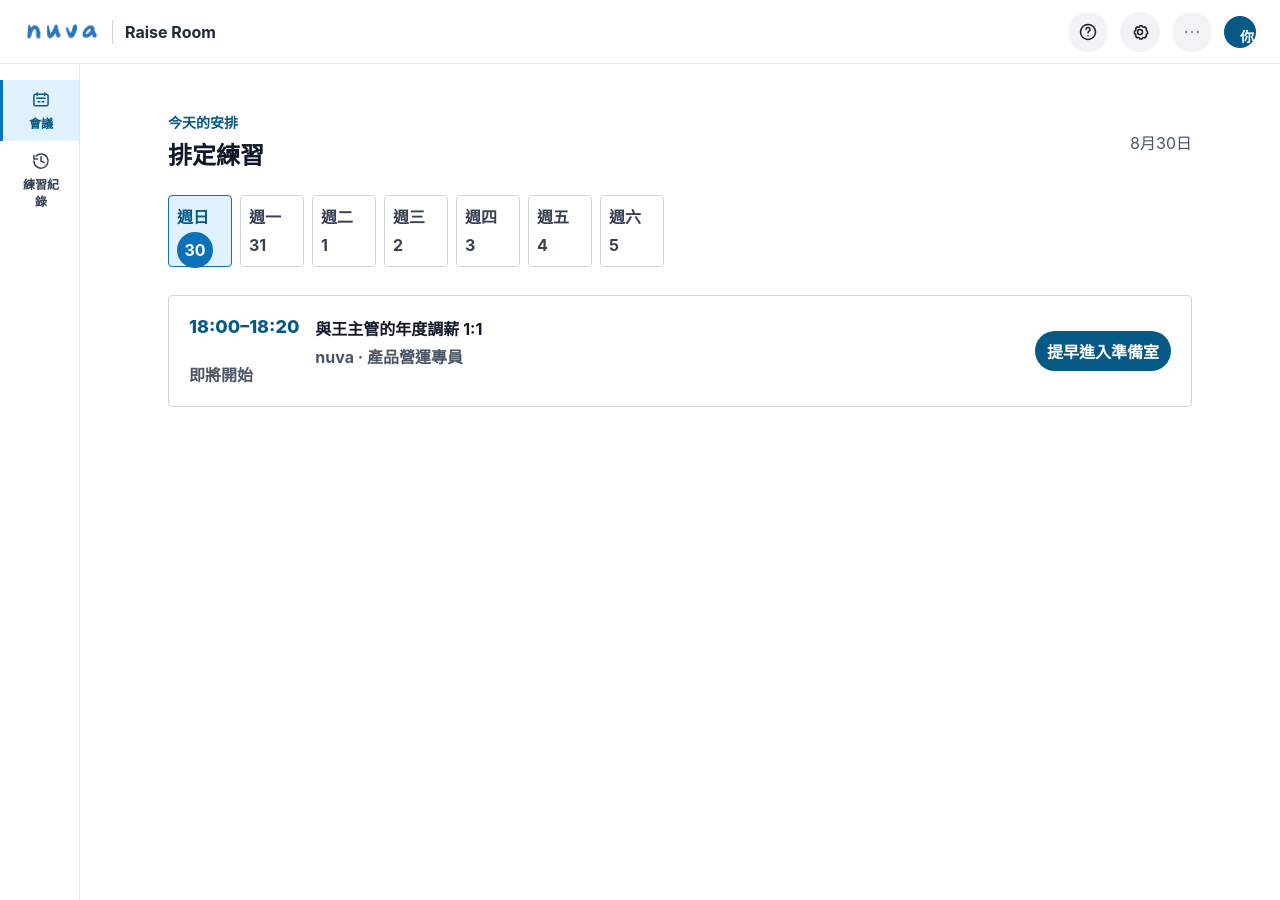
Test case: opens settings from the functional home more menu
Click the button named "更多選項" at (1192, 32), box [1172, 12, 1212, 52]
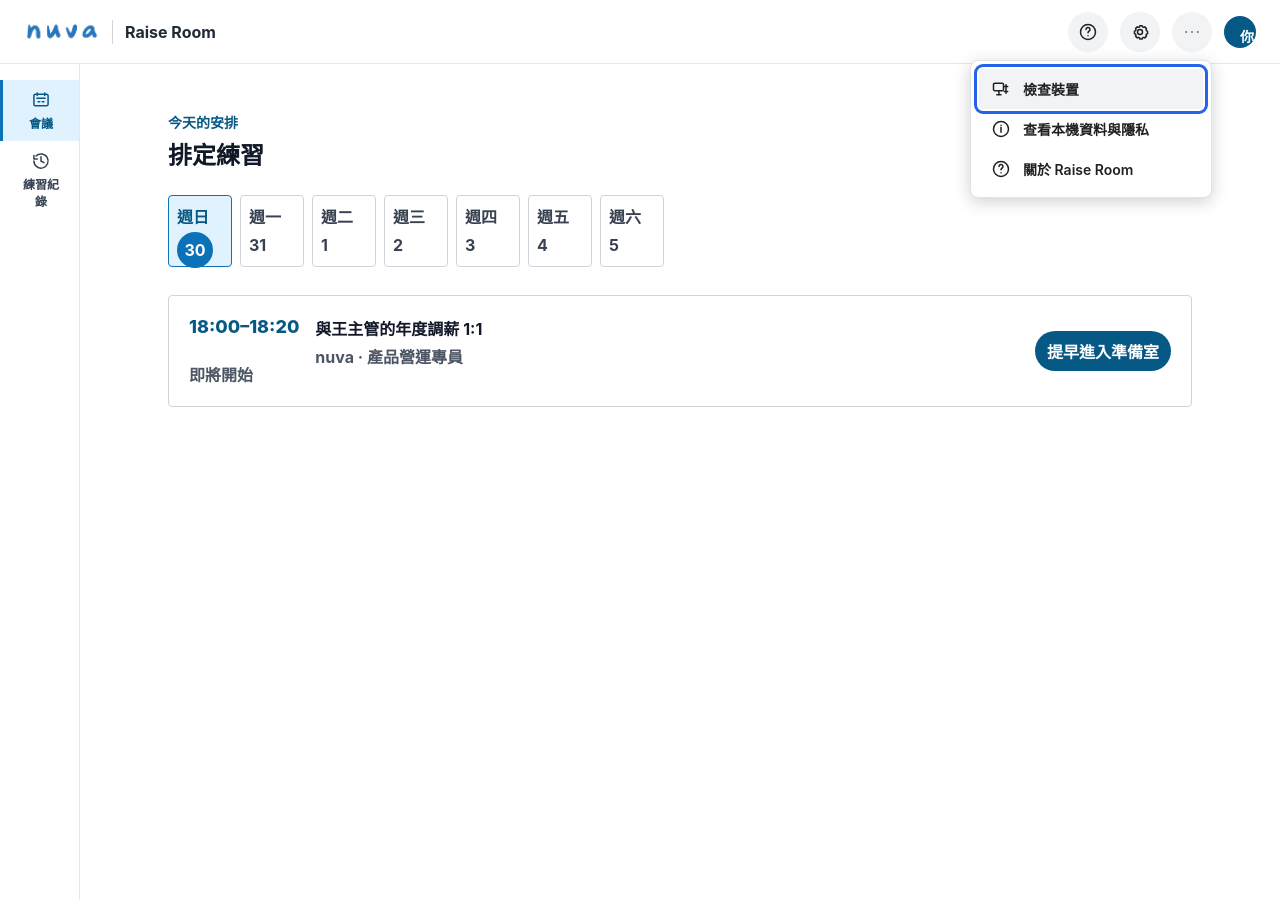
Click the menu item "查看本機資料與隱私" at (1091, 128), box [979, 108, 1203, 148]
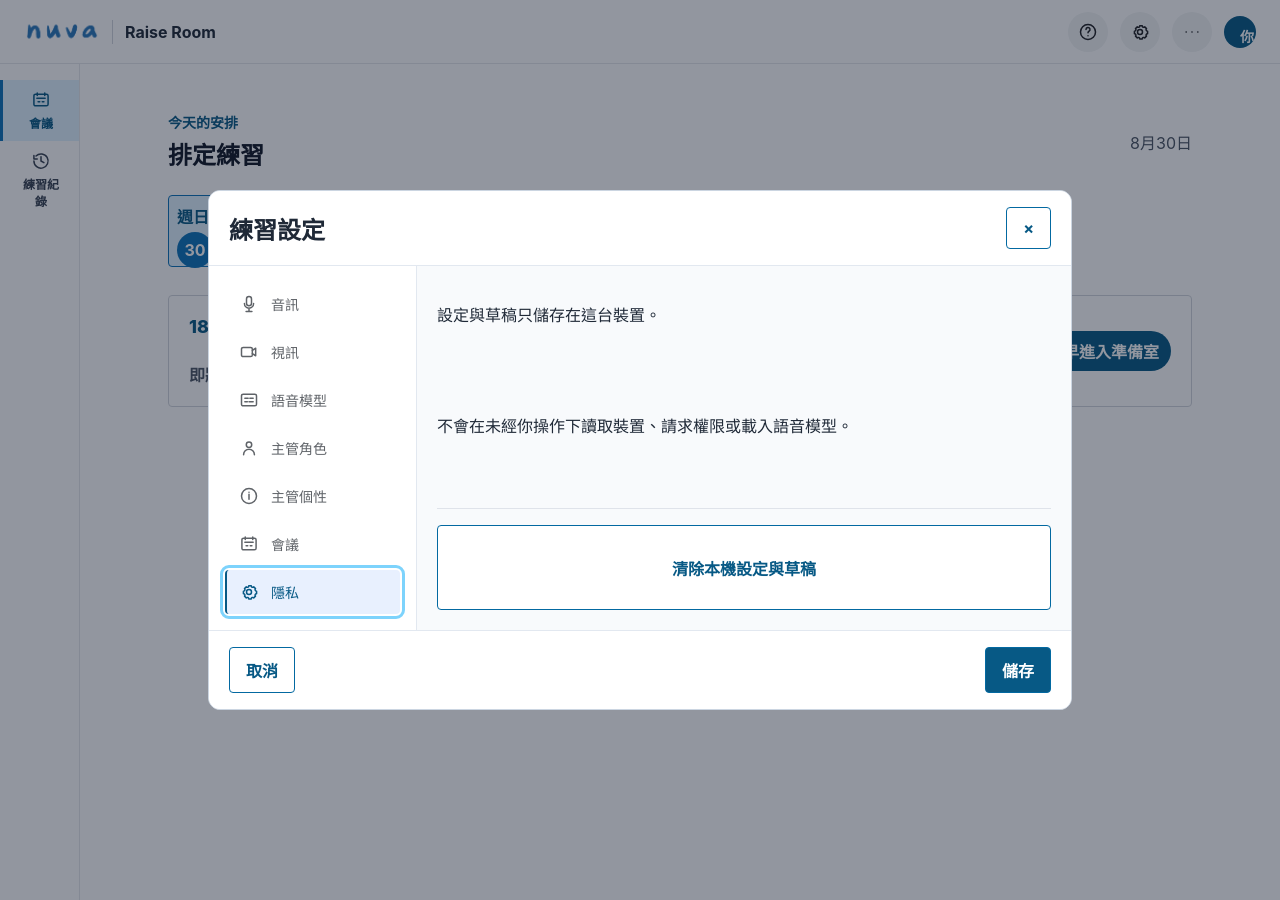
expect the dialog "練習設定" is shown: met, box [208, 190, 1072, 710]
